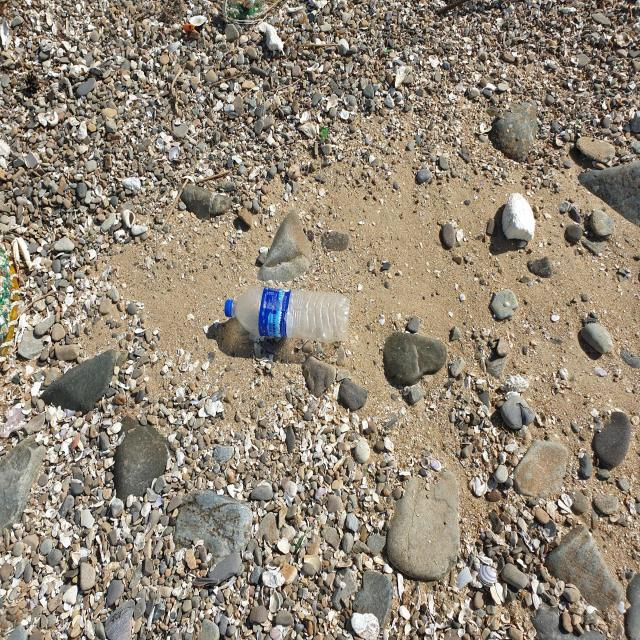plastic: (224, 286, 350, 343)
